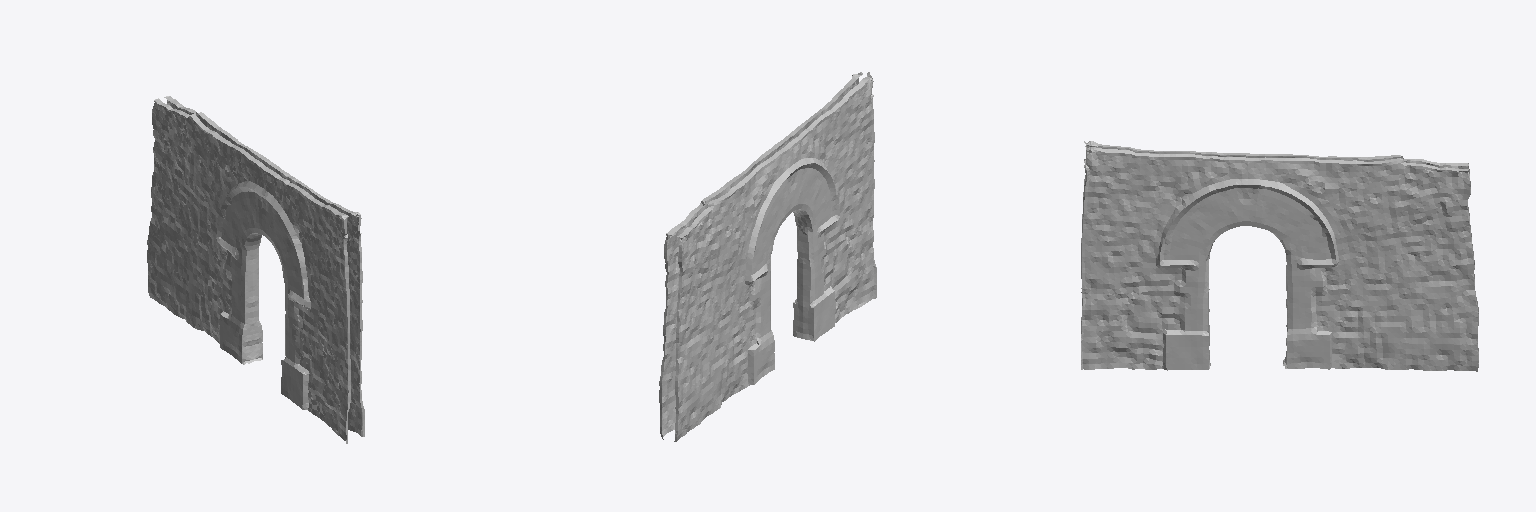
Rendered from OLD_wall_door.obj.
3 renders of one model, left to right at view 1: azimuth 30°, elevation 25°; view 2: azimuth 150°, elevation 25°; view 3: azimuth 270°, elevation 25°, orthographic.
Parts seen in each view (by area): view 1: Porta_esglesia_low_2_sided_Porta_esglesia_low.002; view 2: Porta_esglesia_low_2_sided_Porta_esglesia_low.002; view 3: Porta_esglesia_low_2_sided_Porta_esglesia_low.002.
Boxes of the visible parts, x1,y1,x2,y2 form: Porta_esglesia_low_2_sided_Porta_esglesia_low.002: [147, 96, 364, 443]; Porta_esglesia_low_2_sided_Porta_esglesia_low.002: [659, 72, 876, 441]; Porta_esglesia_low_2_sided_Porta_esglesia_low.002: [1081, 141, 1478, 371].
Bounding box in the file's own units: 0.9542 × 8.43 × 13.44.